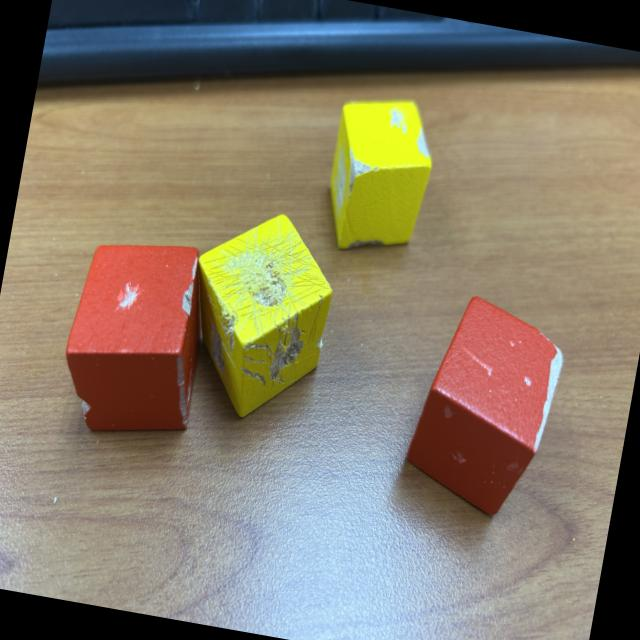broken: (399, 288, 571, 523), (171, 200, 345, 430), (52, 228, 218, 446), (317, 88, 443, 262)
